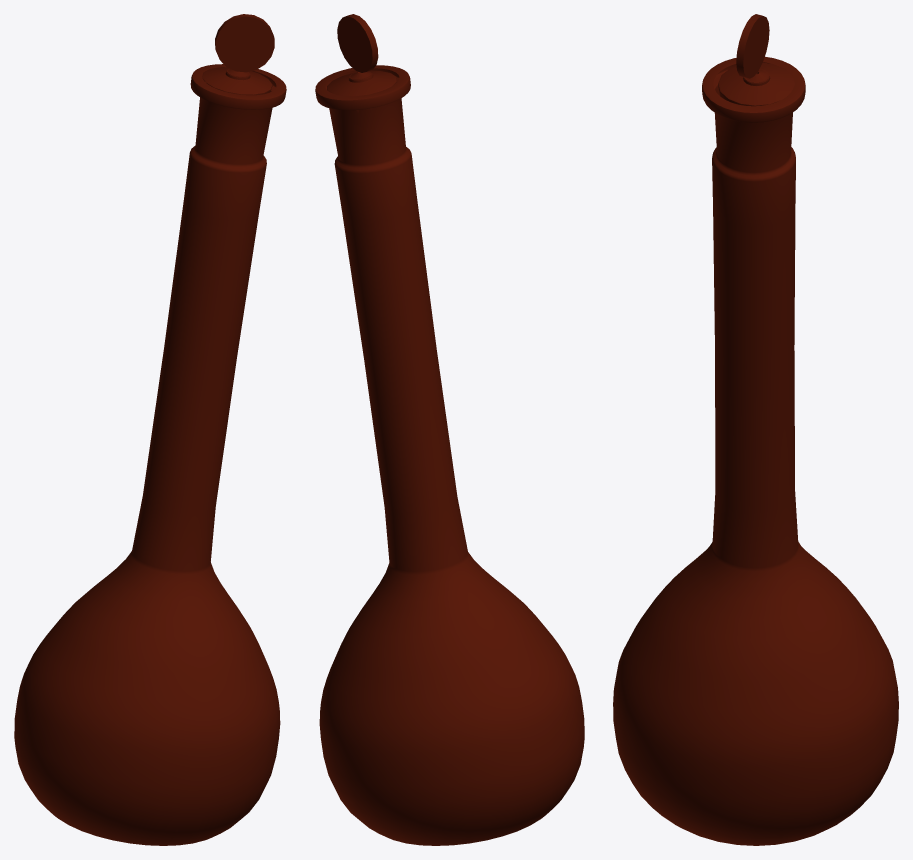
The model's file is 50ml容量瓶.fbx.
3 views of the same model, side by side, from view 1: azimuth 30°, elevation 25°; view 2: azimuth 150°, elevation 25°; view 3: azimuth 270°, elevation 25° (orthographic). The views are drawn at different scales.
Parts seen in each view (by area): view 1: Line002, Cylinder001, Line003; view 2: Line002, Cylinder001, Line003; view 3: Line002, Line003, Cylinder001.
Boxes of the visible parts, left/top/right/bottom form: Line002: left=14, top=64, right=286, bottom=845; Cylinder001: left=215, top=14, right=274, bottom=72; Line003: left=202, top=67, right=272, bottom=95; Line002: left=315, top=65, right=584, bottom=845; Cylinder001: left=337, top=14, right=378, bottom=72; Line003: left=327, top=71, right=396, bottom=112; Line002: left=613, top=56, right=898, bottom=845; Line003: left=718, top=62, right=794, bottom=106; Cylinder001: left=736, top=14, right=769, bottom=78.
Size of the model in its own units: 698 by 2112 by 646.
